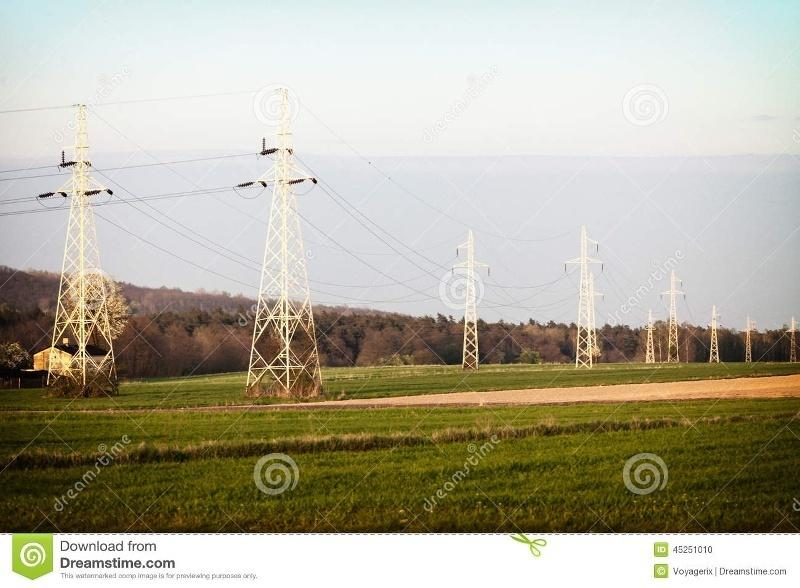power_tower: (238, 116, 352, 397), (37, 115, 125, 377), (440, 227, 494, 378), (559, 218, 608, 368)
